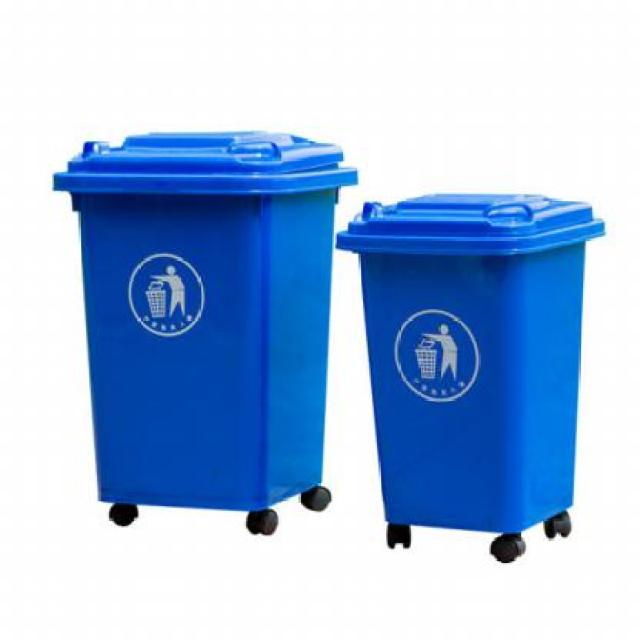garbage container: (41, 114, 361, 557), (331, 188, 617, 584)
